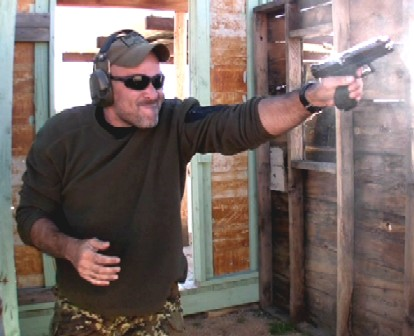gun: (306, 26, 401, 121)
